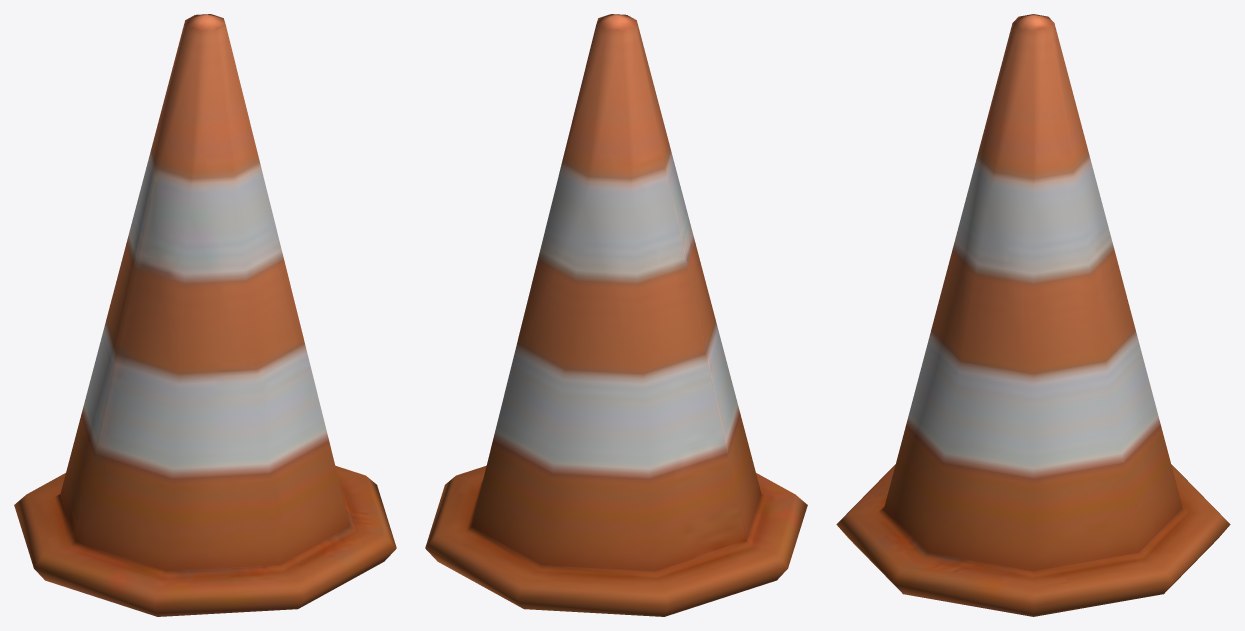
File: 橙色路障.glb
3 renders of one model, left to right at view 1: azimuth 30°, elevation 25°; view 2: azimuth 150°, elevation 25°; view 3: azimuth 270°, elevation 25°, orthographic.
Visible parts, largest first — view 1: luzhang:pCylinder1; view 2: luzhang:pCylinder1; view 3: luzhang:pCylinder1.
Part boxes in pixels (box(x1,y1,x2,y2)): luzhang:pCylinder1: box(14, 14, 396, 616); luzhang:pCylinder1: box(425, 14, 807, 616); luzhang:pCylinder1: box(836, 14, 1230, 616).
Size of the model in its own units: 0.8584 by 1.26 by 0.8584.
Materials: 1 (1 with a texture image).
